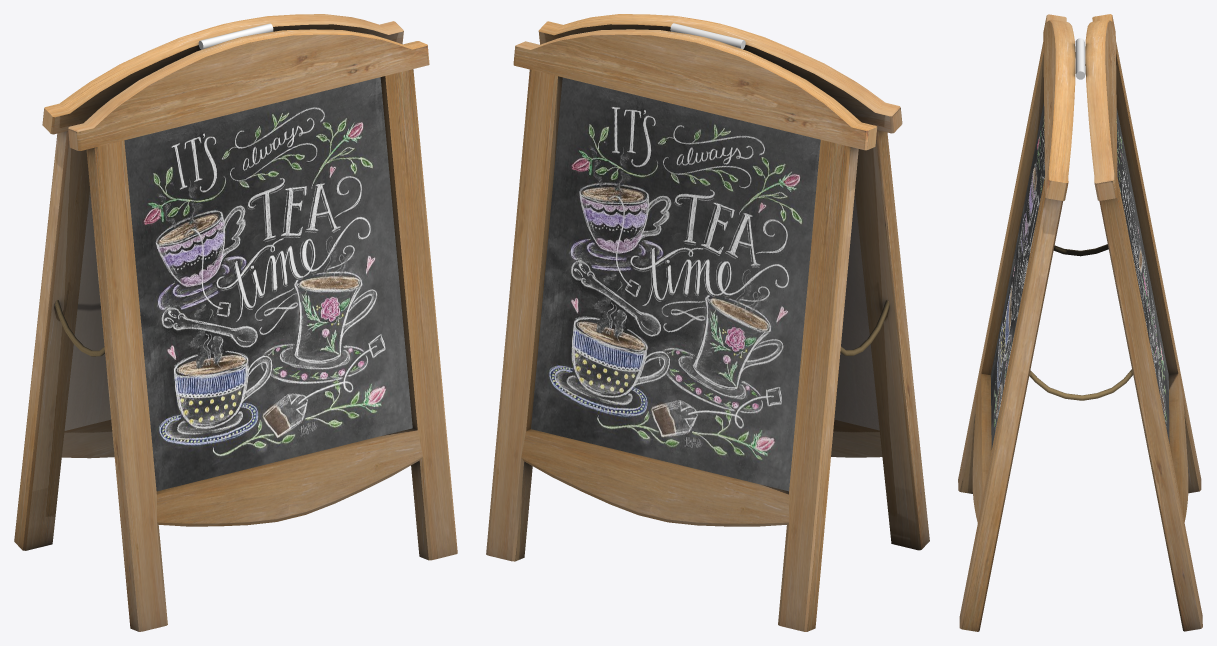
File: pavement_sign_a_board.glb
3 renders of one model, left to right at view 1: azimuth 30°, elevation 25°; view 2: azimuth 150°, elevation 25°; view 3: azimuth 270°, elevation 25°, orthographic. The views are drawn at different scales.
Parts seen in each view (by area): view 1: Material2-material-material, Material1-material-material (×2), Material0-material-material (×2), Material3-material-material, Material4-material-material, Material7-material-material; view 2: Material2-material-material, Material1-material-material (×2), Material0-material-material (×2), Material3-material-material, Material8-material-material, Material7-material-material; view 3: Material1-material-material (×2), Material0-material-material (×2), Material2-material-material (×2), Material6-material-material, Material7-material-material.
Boxes of the visible parts, x1,y1,x2,y2 form: Material2-material-material: (124, 77, 412, 491); Material1-material-material (×2): (14, 69, 457, 631); Material0-material-material (×2): (42, 14, 429, 526); Material3-material-material: (26, 24, 402, 550); Material4-material-material: (64, 190, 111, 430); Material7-material-material: (198, 23, 273, 49); Material2-material-material: (531, 77, 820, 491); Material1-material-material (×2): (486, 69, 929, 631); Material0-material-material (×2): (513, 14, 902, 526); Material3-material-material: (539, 24, 918, 550); Material8-material-material: (834, 192, 879, 430); Material7-material-material: (670, 23, 745, 49); Material1-material-material (×2): (958, 42, 1202, 631); Material0-material-material (×2): (972, 14, 1188, 522); Material2-material-material (×2): (990, 103, 1169, 449); Material6-material-material: (1029, 244, 1132, 400); Material7-material-material: (1075, 38, 1085, 79).
Size of the model in its own units: 1.58 by 2.23 by 0.9839.
Materials: 8 (7 with a texture image).
